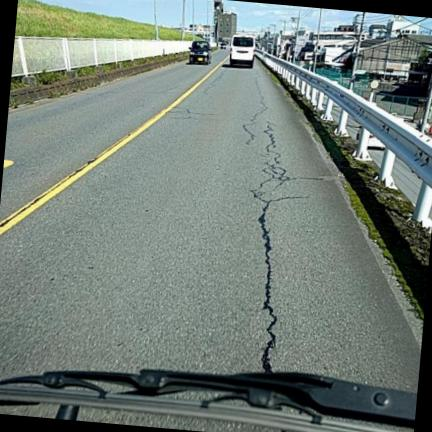Road: (0, 62, 422, 390)
